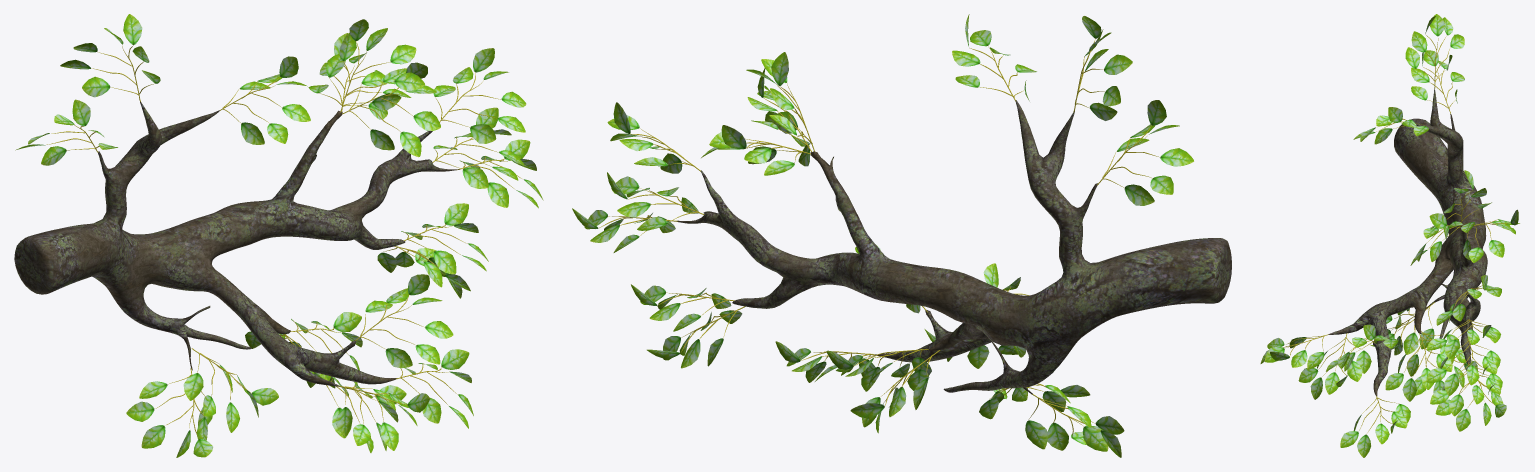
File: tree_branch.glb
The picture shows the model from 3 angles, left to right: view 1: azimuth 30°, elevation 25°; view 2: azimuth 150°, elevation 25°; view 3: azimuth 270°, elevation 25°; orthographic projection. The views are drawn at different scales.
Parts seen in each view (by area): view 1: Leaves_1, TreeBranch_2; view 2: TreeBranch_2, Leaves_1; view 3: Leaves_1, TreeBranch_2.
Boxes of the visible parts, bbox=[...] form: Leaves_1: bbox=[15, 14, 543, 457]; TreeBranch_2: bbox=[14, 101, 459, 386]; TreeBranch_2: bbox=[677, 100, 1231, 394]; Leaves_1: bbox=[572, 14, 1193, 457]; Leaves_1: bbox=[1260, 14, 1519, 457]; TreeBranch_2: bbox=[1328, 87, 1487, 396].
Size of the model in its own units: 14.66 by 11.22 by 7.96.
Materials: 3 (2 with a texture image).
